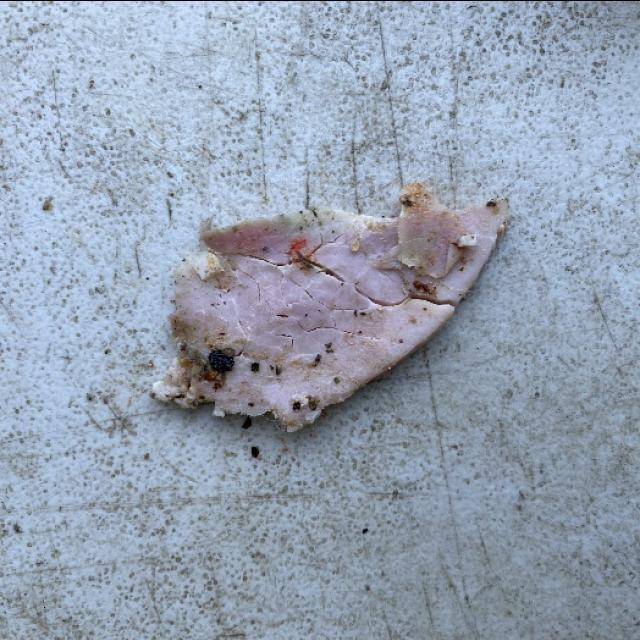organik: (153, 178, 509, 434)
